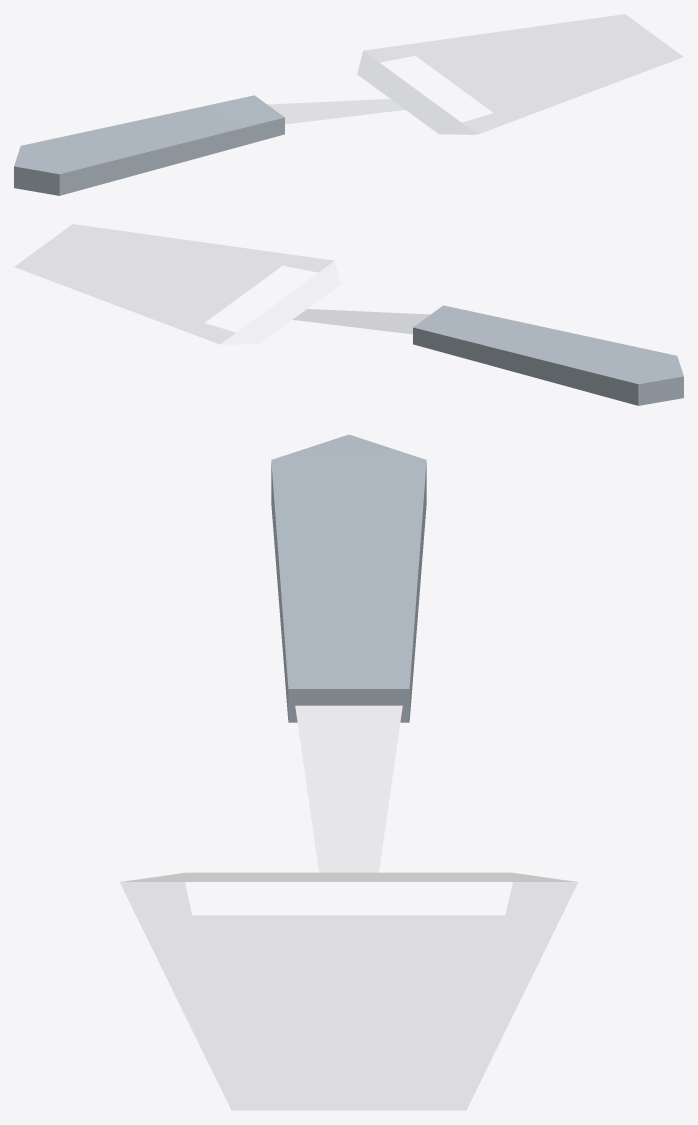
The model's file is cheeseSlicer.fbx.
The picture shows the model from 3 angles, top to bottom: view 1: azimuth 30°, elevation 25°; view 2: azimuth 150°, elevation 25°; view 3: azimuth 270°, elevation 25°; orthographic projection. The views are drawn at different scales.
Visible parts, largest first — view 1: cheeseSlicer; view 2: cheeseSlicer; view 3: cheeseSlicer.
Part boxes in pixels (x1=…): cheeseSlicer: x1=14, y1=14, x2=683, y2=195; cheeseSlicer: x1=14, y1=224, x2=683, y2=405; cheeseSlicer: x1=119, y1=434, x2=578, y2=1110.
Bounding box in the file's own units: 61.84 × 2.92 × 19.18.
